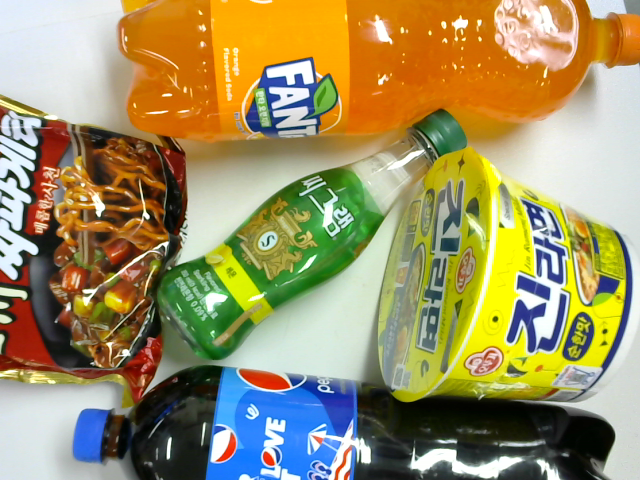Hwanta_Orange_1.5L: (110, 1, 626, 131)
Jinlamyeon_Mild_Taste_Large_Cup: (372, 154, 615, 402)
Pepsi_Cola_1.5L: (75, 369, 613, 476)
Seagram_Lemon_Carbonated_Water: (141, 111, 477, 354)
Sichuan_Chapaghetti: (1, 124, 190, 379)
